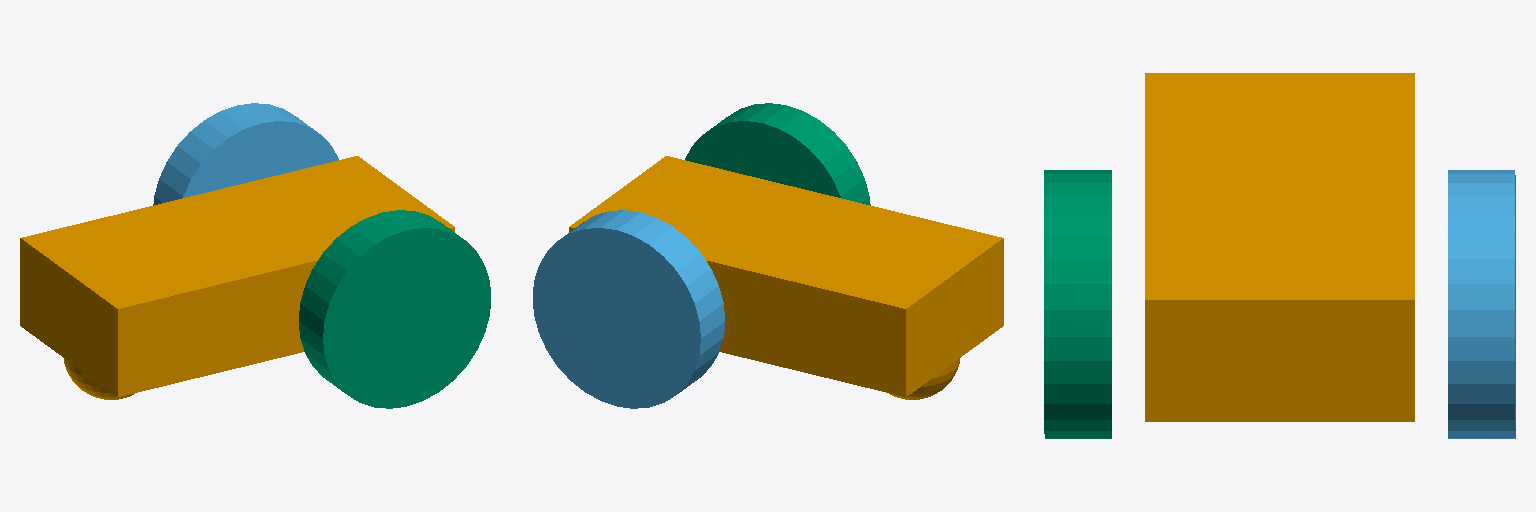
robot.urdf — robot:
<?xml version="1.0" ?>
<!-- =================================================================================== -->
<!-- |    This document was autogenerated by xacro from romi.xacro                     | -->
<!-- |    EDITING THIS FILE BY HAND IS NOT RECOMMENDED                                 | -->
<!-- =================================================================================== -->
<robot name="robot" xmlns:xacro="http://www.ros.org/wiki/xacro">
  <gazebo>
    <plugin filename="libgazebo_ros_diff_drive.so" name="differential_drive_controller">
      <legacyMode>false</legacyMode>
      <alwaysOn>true</alwaysOn>
      <updateRate>20</updateRate>
      <leftJoint>left_wheel_hinge</leftJoint>
      <rightJoint>right_wheel_hinge</rightJoint>
      <wheelSeparation>0.4</wheelSeparation>
      <wheelDiameter>0.1</wheelDiameter>
      <publishWheelTF>false</publishWheelTF>
      <publishWheelJointState>true</publishWheelJointState>
      <publishTf>true</publishTf>
      <wheelAcceleration>1</wheelAcceleration>
      <wheelTorque>10</wheelTorque>
      <torque>20</torque>
      <commandTopic>cmd_vel</commandTopic>
      <odometryTopic>odom</odometryTopic>
      <odometryFrame>odom</odometryFrame>
      <odometrySource>world</odometrySource>
      <rosDebugLevel>na</rosDebugLevel>
      <robotBaseFrame>chassis</robotBaseFrame>
    </plugin>
  </gazebo>
  <gazebo reference="chassis">
    <material>Gazebo/Orange</material>
  </gazebo>
  <material name="black">
    <color rgba="0.0 0.0 0.0 1.0"/>
  </material>
  <material name="blue">
    <color rgba="0.0 0.0 0.8 1.0"/>
  </material>
  <material name="green">
    <color rgba="0.0 0.8 0.0 1.0"/>
  </material>
  <material name="grey">
    <color rgba="0.2 0.2 0.2 1.0"/>
  </material>
  <material name="orange">
    <color rgba="1.0 0.423529411765 0.0392156862745 1.0"/>
  </material>
  <material name="brown">
    <color rgba="0.870588235294 0.811764705882 0.764705882353 1.0"/>
  </material>
  <material name="red">
    <color rgba="0.8 0.0 0.0 1.0"/>
  </material>
  <material name="white">
    <color rgba="1.0 1.0 1.0 1.0"/>
  </material>
  <!--macro name="cylinder_inertia" params="m r h">
    <inertia  ixx="${m*(3*r*r+h*h)/12}" ixy = "0" ixz = "0"
      iyy="${m*(3*r*r+h*h)/12}" iyz = "0"
      izz="${m*r*r/2}"
    />
  </xacro:macro>

  <xacro:macro name="box_inertia" params="m x y z">
    <inertia  ixx="${m*(y*y+z*z)/12}" ixy = "0" ixz = "0"
      iyy="${m*(x*x+z*z)/12}" iyz = "0"
      izz="${m*(x*x+z*z)/12}"
    />
  </xacro:macro>

  <xacro:macro name="sphere_inertia" params="m r">
    <inertia  ixx="${2*m*r*r/5}" ixy = "0" ixz = "0"
      iyy="${2*m*r*r/5}" iyz = "0"
      izz="${2*m*r*r/5}"
    />
  </xacro:macro>







  <xacro:macro name="wheel" params="lr tY">

    <link name="${lr}_wheel">
      <collision>
        <origin xyz="0 0 0" rpy="0 ${PI/2} ${PI/2}" />
        <geometry>
          <cylinder length="${wheelWidth}" radius="${wheelRadius}"/>
        </geometry>
      </collision>

      <visual>
        <origin xyz="0 0 0" rpy="0 ${PI/2} ${PI/2}" />
        <geometry>
          <cylinder length="${wheelWidth}" radius="${wheelRadius}"/>
        </geometry>
        <material name="black"/>
      </visual>

      <inertial>
        <origin xyz="0 0 0" rpy="0 ${PI/2} ${PI/2}" />
        <mass value="${wheelMass}"/>
        <cylinder_inertia m="${wheelMass}" r="${wheelRadius}" h="${wheelWidth}"/>
      </inertial>
    </link>

    <gazebo reference="${lr}_wheel">
      <mu1 value="1.0"/>
      <mu2 value="1.0"/>
      <kp  value="10000000.0" />
      <kd  value="1.0" />
      <fdir1 value="1 0 0"/>
      <material>Gazebo/Black</material>
    </gazebo>


    <joint name="${lr}_wheel_hinge" type="continuous">
      <parent link="chassis"/>
      <child link="${lr}_wheel"/>
    <origin xyz="${-wheelPos+chassisLength/2} ${tY*wheelWidth/2+tY*chassisWidth/2} ${wheelRadius}" rpy="0 0 0" />
      <axis xyz="0 1 0" rpy="0 0 0" />
      <limit effort="10000" velocity="10000"/>
      <joint_properties damping="0.0" friction="0.0"/>
    </joint>


    <transmission name="${lr}_trans">
      <type>transmission_interface/SimpleTransmission</type>
      <joint name="${lr}_wheel_hinge">
        <hardwareInterface>EffortJointInterface</hardwareInterface>
      </joint>
      <actuator name="${lr}Motor">
        <hardwareInterface>EffortJointInterface</hardwareInterface>
        <mechanicalReduction>10</mechanicalReduction>
      </actuator>
    </transmission>

  </xacro:macro-->
  <link name="chassis">
    <pose>0 0 0.1 0 0 0</pose>
    <inertial>
      <mass value="10.0"/>
      <origin rpy=" 0 0 0" xyz="0.0 0 0.1"/>
      <inertia ixx="0.5" ixy="0" ixz="0" iyy="1.0" iyz="0" izz="0.1"/>
    </inertial>
    <collision name="collision">
      <geometry>
        <box size=".4 .2 .1"/>
      </geometry>
    </collision>
    <visual name="chassis_visual">
      <origin rpy=" 0 0 0" xyz="0 0 0"/>
      <geometry>
        <box size=".4 .2 .1"/>
      </geometry>
    </visual>
    <collision name="caster_collision">
      <origin rpy=" 0 0 0" xyz="-0.15 0 -0.05"/>
      <geometry>
        <sphere radius="0.05"/>
      </geometry>
      <surface>
        <friction>
          <ode>
            <mu>0</mu>
            <mu2>0</mu2>
            <slip1>1.0</slip1>
            <slip2>1.0</slip2>
          </ode>
        </friction>
      </surface>
    </collision>
    <visual name="caster_visual">
      <origin rpy=" 0 0 0" xyz="-0.15 0 -0.05"/>
      <geometry>
        <sphere radius="0.05"/>
      </geometry>
    </visual>
  </link>
  <link name="left_wheel">
    <!--origin xyz="0.1 0.13 0.1" rpy="0 1.5707 1.5707"/-->
    <collision name="collision">
      <origin rpy="0 1.5707 1.5707" xyz="0 0 0"/>
      <geometry>
        <cylinder length="0.05" radius="0.1"/>
      </geometry>
    </collision>
    <visual name="left_wheel_visual">
      <origin rpy="0 1.5707 1.5707" xyz="0 0 0"/>
      <geometry>
        <cylinder length="0.05" radius="0.1"/>
      </geometry>
    </visual>
    <inertial>
      <origin rpy="0 1.5707 1.5707" xyz="0 0 0"/>
      <mass value="5"/>
      <cylinder_inertia h="0.05" m="5" r="0.1"/>
      <inertia ixx="1.0" ixy="0.0" ixz="0.0" iyy="1.0" iyz="0.0" izz="1.0"/>
    </inertial>
  </link>
  <link name="right_wheel">
    <!--origin xyz="0.1 -0.13 0.1" rpy="0 1.5707 1.5707"/-->
    <collision name="collision">
      <origin rpy="0 1.5707 1.5707" xyz="0 0 0"/>
      <geometry>
        <cylinder length="0.05" radius="0.1"/>
      </geometry>
    </collision>
    <visual name="right_wheel_visual">
      <origin rpy="0 1.5707 1.5707" xyz="0 0 0"/>
      <geometry>
        <cylinder length="0.05" radius="0.1"/>
      </geometry>
    </visual>
    <inertial>
      <origin rpy="0 1.5707 1.5707" xyz="0 0 0"/>
      <mass value="5"/>
      <cylinder_inertia h="0.05" m="5" r="0.1"/>
      <inertia ixx="1.0" ixy="0.0" ixz="0.0" iyy="1.0" iyz="0.0" izz="1.0"/>
    </inertial>
  </link>
  <joint name="left_wheel_hinge" type="continuous">
    <origin rpy="0 0 0" xyz="0.1 0.15 0"/>
    <child link="left_wheel"/>
    <parent link="chassis"/>
    <axis rpy="0 0 0" xyz="0 1 0"/>
    <limit effort="100" velocity="100"/>
    <joint_properties damping="0.0" friction="0.0"/>
  </joint>
  <joint name="right_wheel_hinge" type="continuous">
    <origin rpy="0 0 0" xyz="0.1 -0.15 0"/>
    <child link="right_wheel"/>
    <parent link="chassis"/>
    <axis rpy="0 0 0" xyz="0 1 0"/>
    <limit effort="100" velocity="100"/>
    <joint_properties damping="0.0" friction="0.0"/>
  </joint>
</robot>

--- Render facts (derived) ---
The picture shows the robot from 3 angles, left to right: view 1: azimuth 30°, elevation 25°; view 2: azimuth 150°, elevation 25°; view 3: azimuth 270°, elevation 25°; orthographic projection.
Model robot with 3 links and 2 joints (2 continuous), rooted at chassis, posed every joint at zero.
Visible links, largest first — view 1: chassis, right_wheel, left_wheel; view 2: chassis, left_wheel, right_wheel; view 3: chassis, left_wheel, right_wheel.
Link boxes in pixels (x1,y1,x2,y2): chassis: (20,156,454,399); right_wheel: (299,210,490,408); left_wheel: (153,103,338,205); chassis: (569,156,1003,399); left_wheel: (533,210,724,408); right_wheel: (685,103,870,205); chassis: (1145,73,1414,421); left_wheel: (1448,170,1515,438); right_wheel: (1044,170,1111,438).
Bounding box of the posed robot: 0.4 × 0.35 × 0.2 m (x, y, z).
Geometry: primitives only (box / cylinder / sphere), no mesh files.
